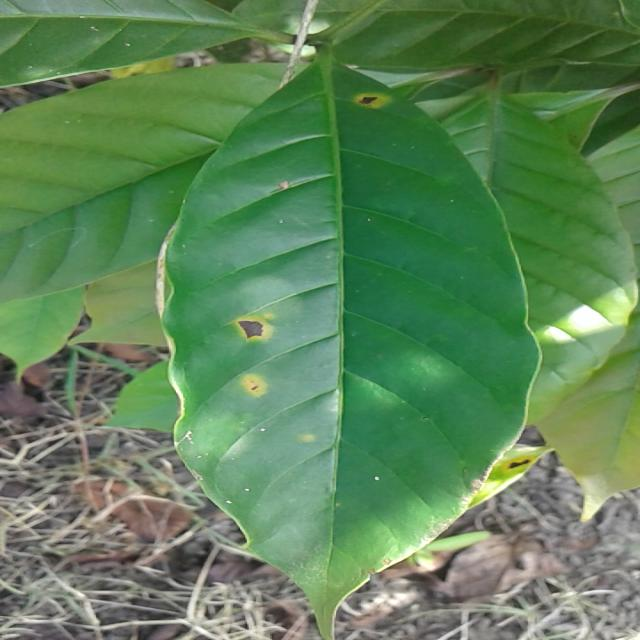Enfermedad-Roya: (153, 54, 540, 638)
